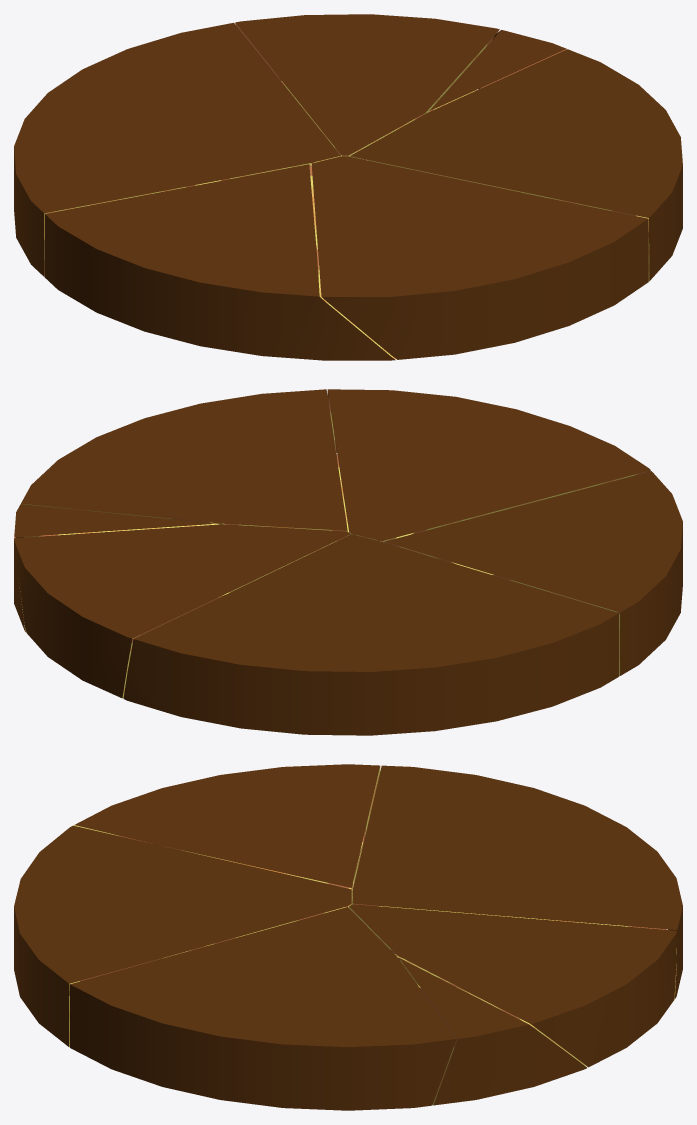
The model's file is BOXBroken.fbx.
3 renders of one model, top to bottom at view 1: azimuth 30°, elevation 25°; view 2: azimuth 150°, elevation 25°; view 3: azimuth 270°, elevation 25°, orthographic.
Visible parts, largest first — view 1: Wood_cell.003, Wood_cell.005, Wood_cell.002, Wood_cell.004, Wood_cell.001, Wood_cell; view 2: Wood_cell.002, Wood_cell.004, Wood_cell.003, Wood_cell.001, Wood_cell.005, Wood_cell; view 3: Wood_cell.004, Wood_cell.002, Wood_cell.003, Wood_cell.001, Wood_cell.005, Wood_cell.
Boxes of the visible parts, x1,y1,x2,y2 form: Wood_cell.003: (312,156,648,359); Wood_cell.005: (44,164,395,360); Wood_cell.002: (14,22,340,276); Wood_cell.004: (350,49,682,281); Wood_cell.001: (235,14,499,160); Wood_cell: (423,30,566,114); Wood_cell.002: (123,534,618,735); Wood_cell.004: (21,389,347,531); Wood_cell.003: (327,389,650,542); Wood_cell.001: (14,524,350,698); Wood_cell.005: (384,471,682,676); Wood_cell: (14,504,218,632); Wood_cell.004: (69,907,456,1110); Wood_cell.002: (351,765,682,999); Wood_cell.003: (14,825,351,1047); Wood_cell.001: (349,904,676,1067); Wood_cell.005: (74,764,380,951); Wood_cell: (397,957,586,1105).
Size of the model in its own units: 1 by 0.107 by 0.9991.
